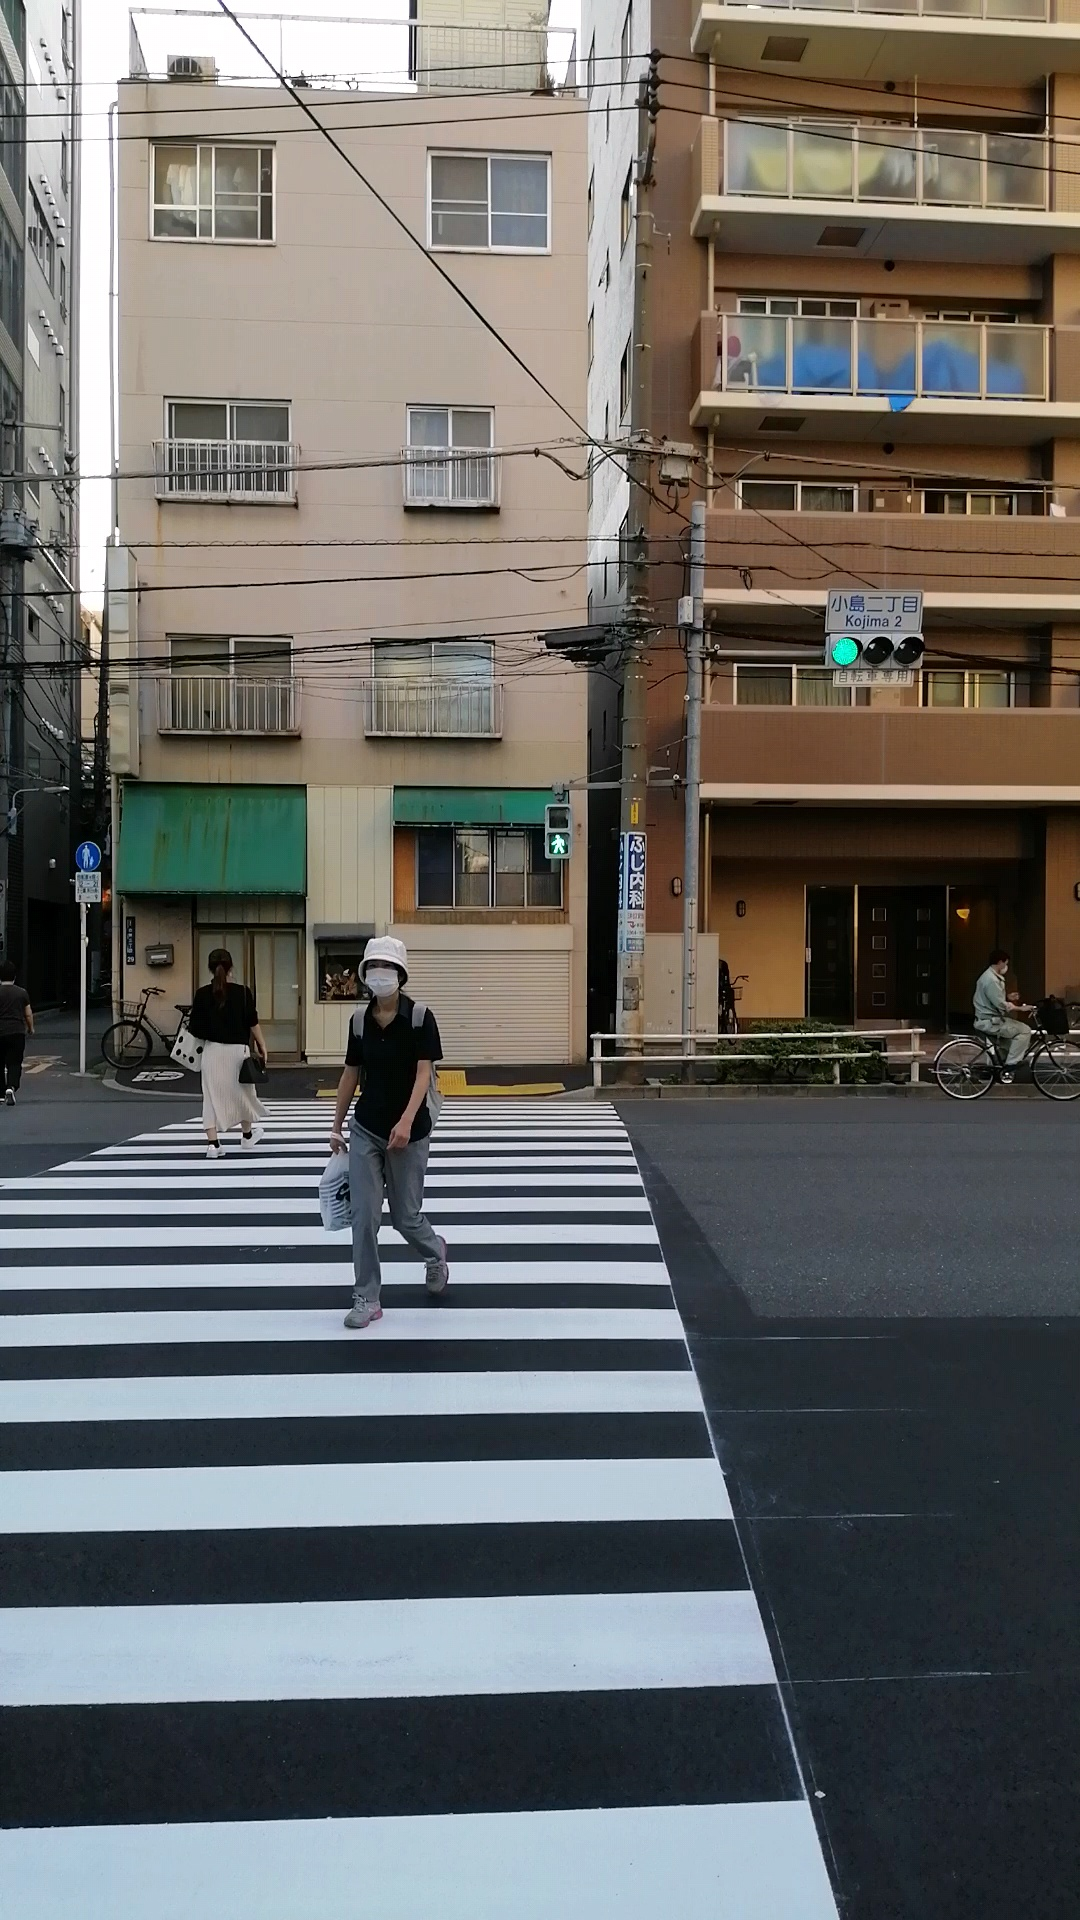green: (543, 803, 574, 858)
